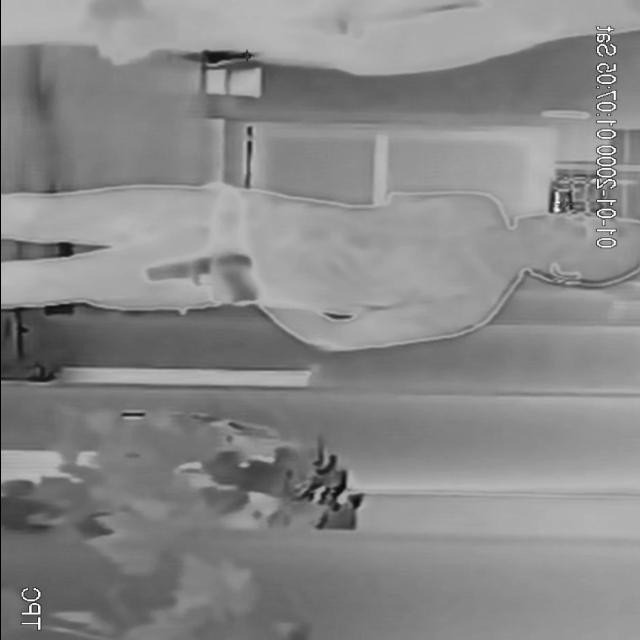Weapon: (140, 243, 266, 307)
